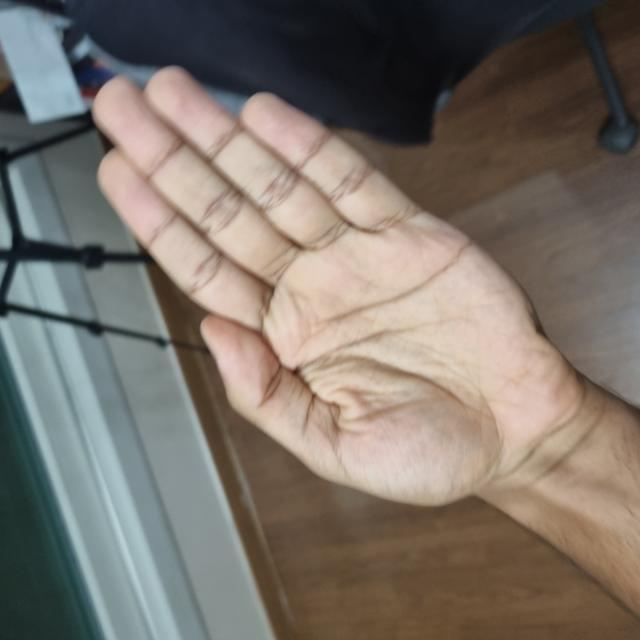Paper: (140, 85, 573, 558)
